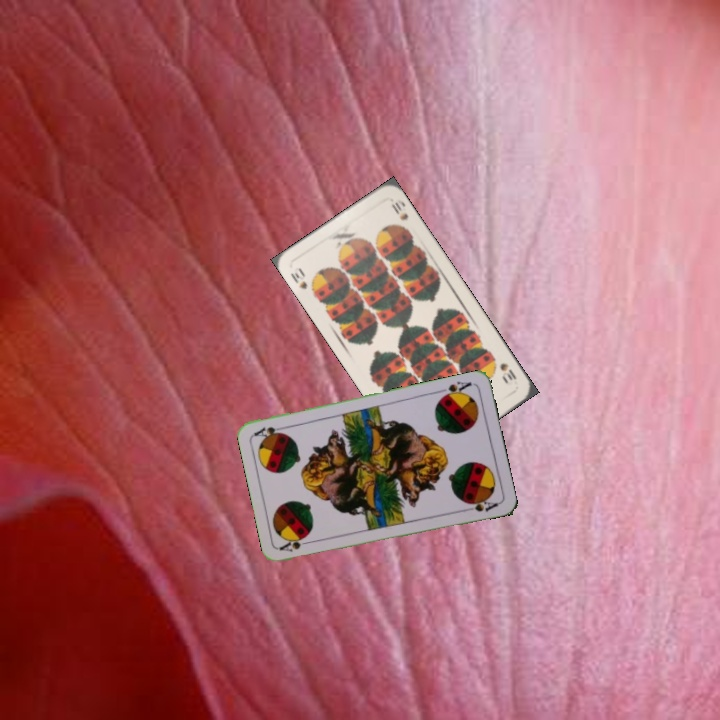S10: (287, 264, 319, 297), (496, 359, 519, 388)
SA: (437, 377, 474, 401), (276, 534, 316, 554)
